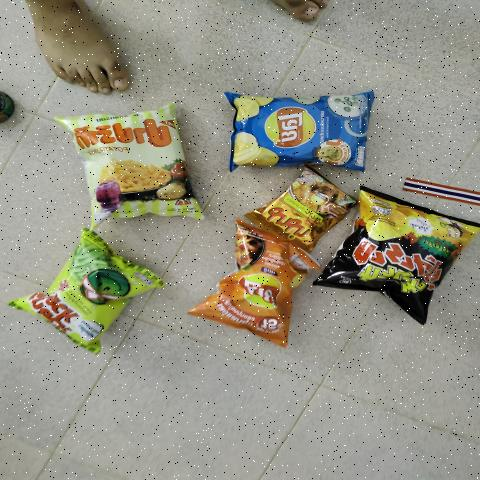karamujo: (350, 201, 452, 299)
lay_blue: (246, 99, 350, 161)
mama: (270, 185, 347, 240)
paprika: (88, 114, 177, 220)
snack_jack: (11, 249, 168, 346)
